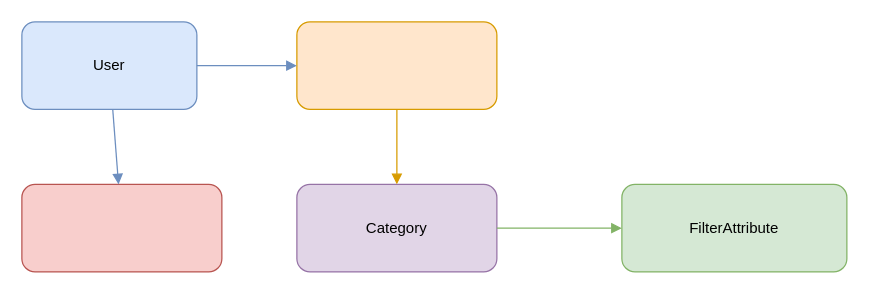
Some shapes in this 869 by 294 pixel diagram are drawn without their labels. Here are the shapes that lost their labels. From the top down, the centre of each, then its label:
At (396,65): "Listing".
At (121,227): "RefreshToken".
